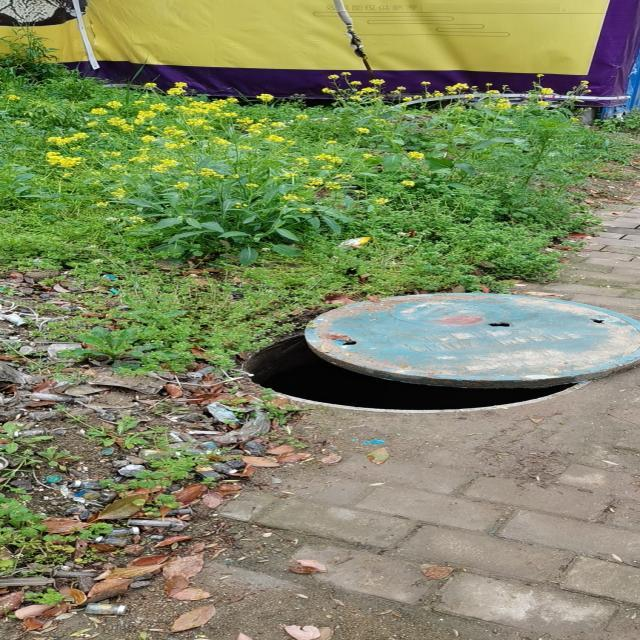Faulty: (236, 292, 640, 411)
